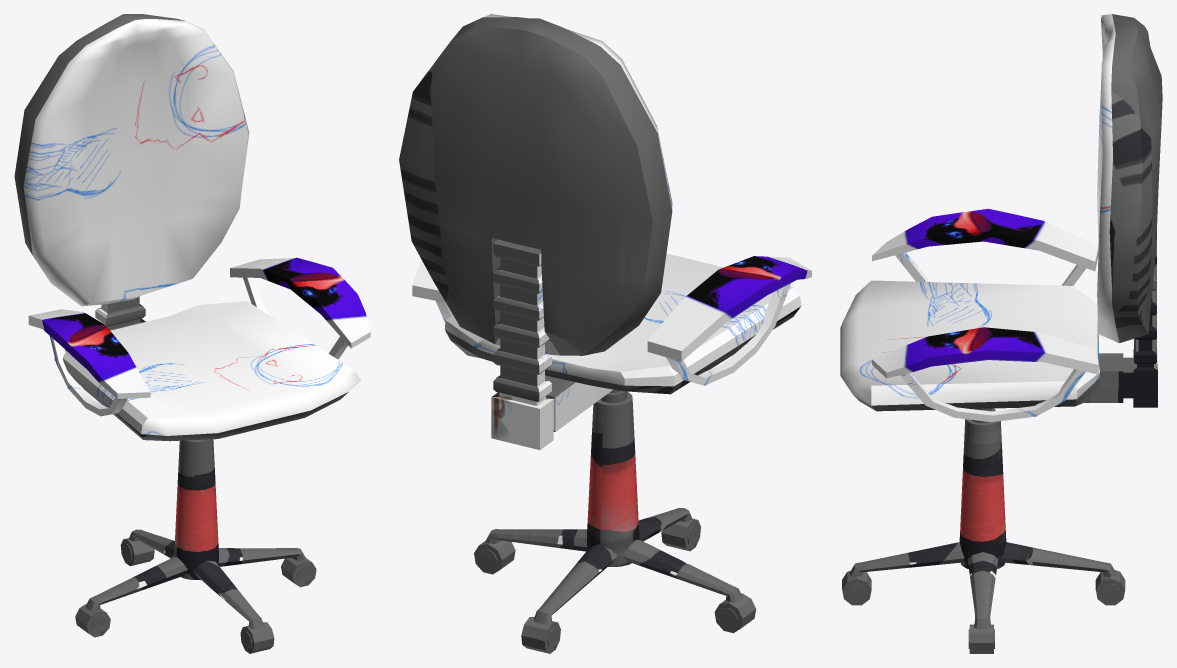
Rendered from Chaise Prof ondulé.FBX.
The picture shows the model from 3 angles, left to right: view 1: azimuth 30°, elevation 25°; view 2: azimuth 150°, elevation 25°; view 3: azimuth 270°, elevation 25°; orthographic projection. The views are drawn at different scales.
Parts seen in each view (by area): view 1: Box022; view 2: Box022; view 3: Box022.
Boxes of the visible parts, x1,y1,x2,y2 form: Box022: (14, 14, 370, 653); Box022: (399, 14, 811, 653); Box022: (840, 14, 1162, 653).
Size of the model in its own units: 26.72 by 50.4 by 25.71.
